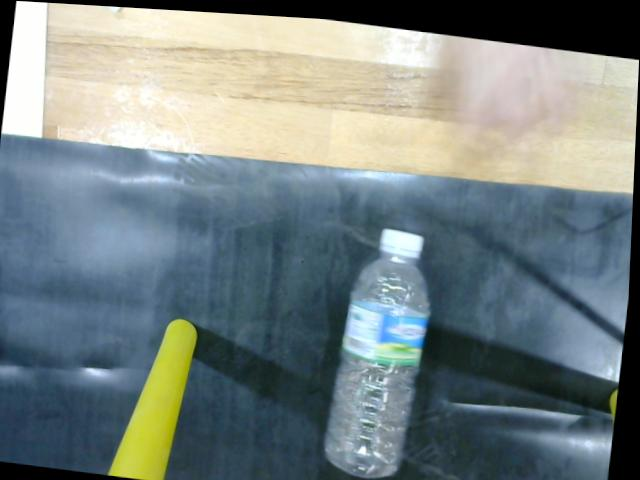bottle: (324, 211, 441, 479)
